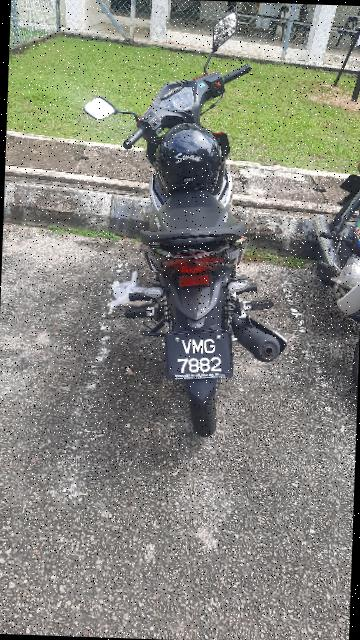License_Plate: (158, 321, 249, 389)
motorcycle: (73, 3, 303, 444)
